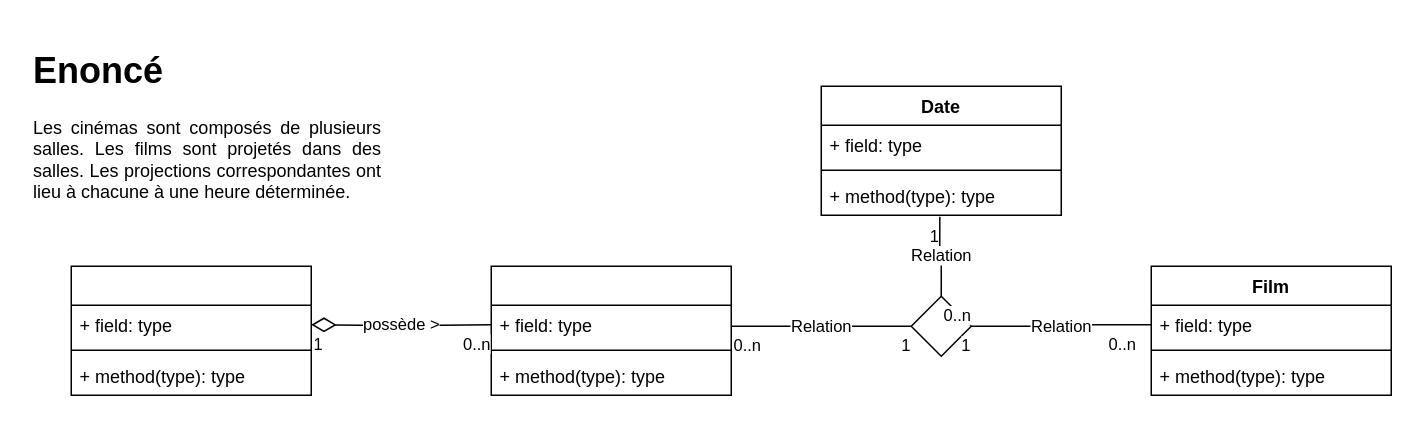
This 1418x425 diagram has some shape labels left out. The box of each missing label's shape, as (x1, y1, x2, y2) in pixels:
Cinéma: (70, 265, 311, 395)
Salle: (490, 265, 731, 395)
